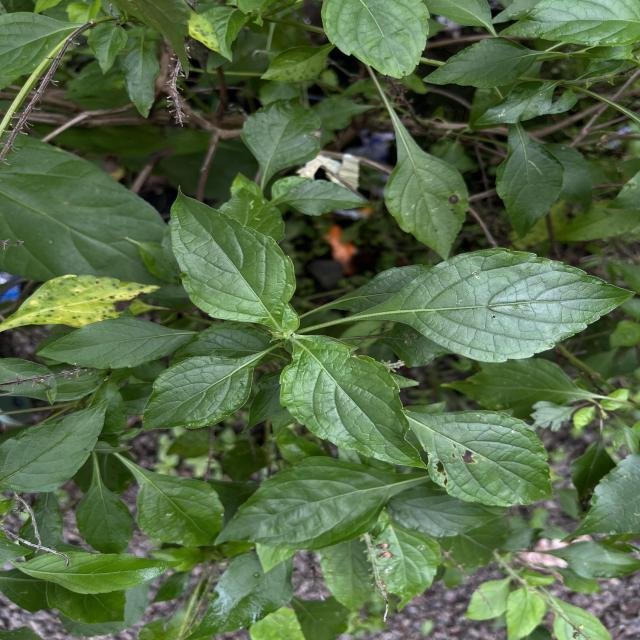Ocimum gratissimum: (331, 244, 640, 366), (276, 330, 427, 470), (166, 182, 300, 330), (211, 454, 413, 552), (404, 407, 560, 508), (380, 95, 472, 264), (138, 348, 280, 432), (0, 392, 111, 494), (32, 315, 200, 370), (319, 0, 432, 80), (492, 120, 566, 241), (8, 550, 188, 596), (497, 0, 640, 49)
